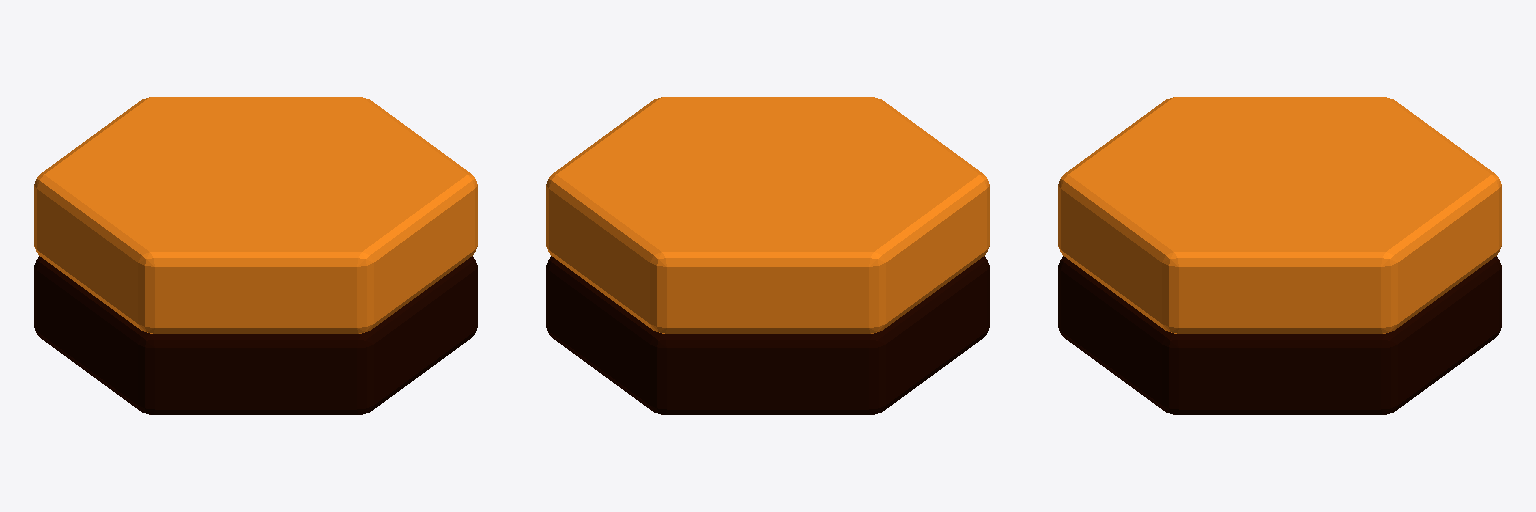
File: ground_sand.obj
3 views of the same model, side by side, from view 1: azimuth 30°, elevation 25°; view 2: azimuth 150°, elevation 25°; view 3: azimuth 270°, elevation 25° (orthographic).
Parts seen in each view (by area): view 1: ground_sand; view 2: ground_sand; view 3: ground_sand.
Part boxes in pixels (left/top/right/bottom): ground_sand: left=34, top=97, right=477, bottom=414; ground_sand: left=546, top=97, right=989, bottom=414; ground_sand: left=1058, top=97, right=1501, bottom=414.
Size of the model in its own units: 6.93 by 3.2 by 7.9.